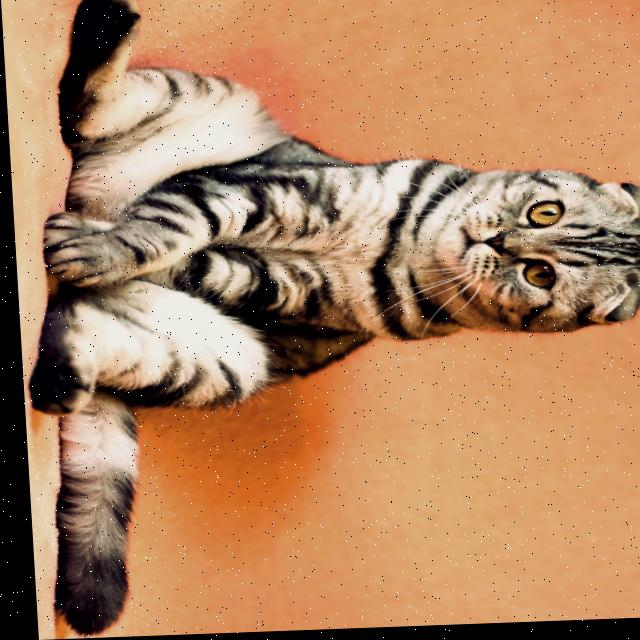Scottish Fold: (1, 0, 640, 640)
